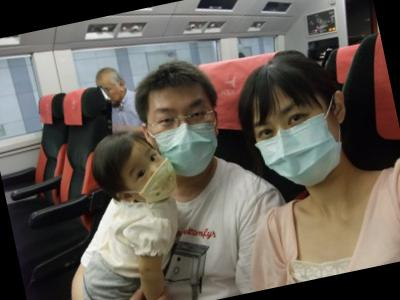with_mask: (245, 88, 351, 198), (142, 93, 226, 183), (118, 140, 183, 209)
without_mask: (103, 81, 124, 108)
